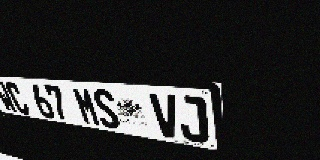6: (27, 84, 57, 120)
7: (43, 85, 73, 122)
C: (3, 82, 32, 116)
J: (176, 95, 209, 144)
M: (71, 87, 102, 127)
S: (90, 88, 122, 130)
V: (149, 93, 182, 140)
W: (0, 81, 19, 113)
